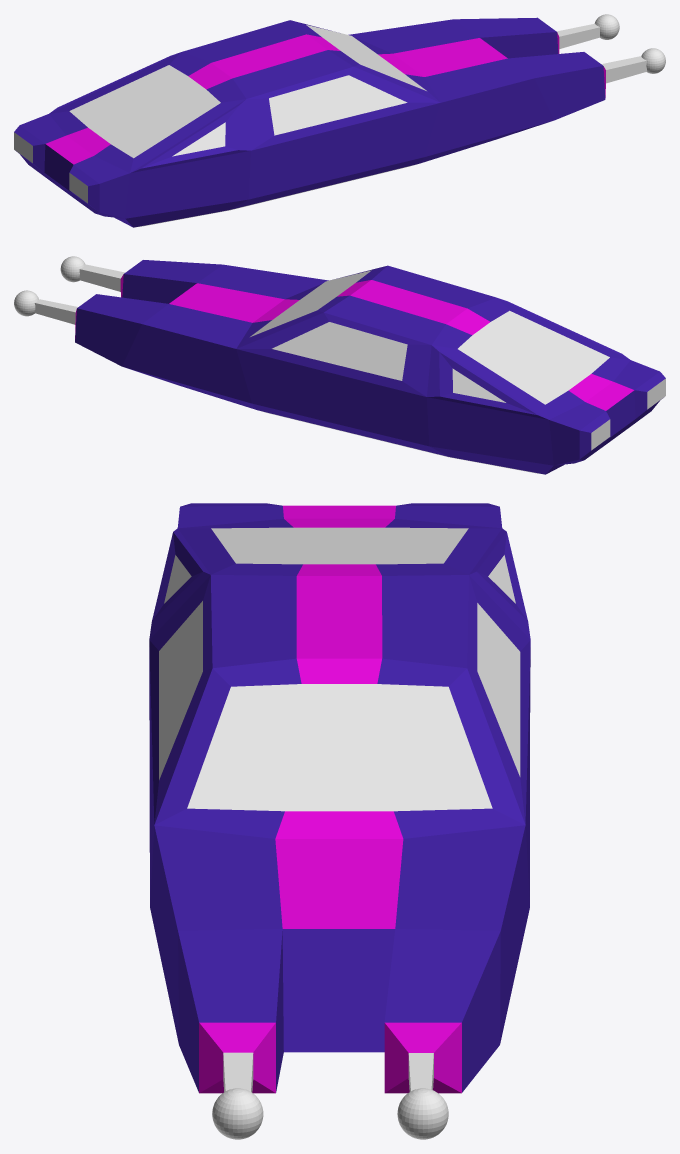
The model's file is playercar.fbx.
The picture shows the model from 3 angles, top to bottom: view 1: azimuth 30°, elevation 25°; view 2: azimuth 150°, elevation 25°; view 3: azimuth 270°, elevation 25°; orthographic projection. The views are drawn at different scales.
Visible parts, largest first — view 1: Cube; view 2: Cube; view 3: Cube.
Part boxes in pixels (<box>): Cube: <box>14,14,665,227</box>; Cube: <box>14,256,665,474</box>; Cube: <box>149,503,530,1139</box>.
Bounding box in the file's own units: 1471 × 304 × 413.
